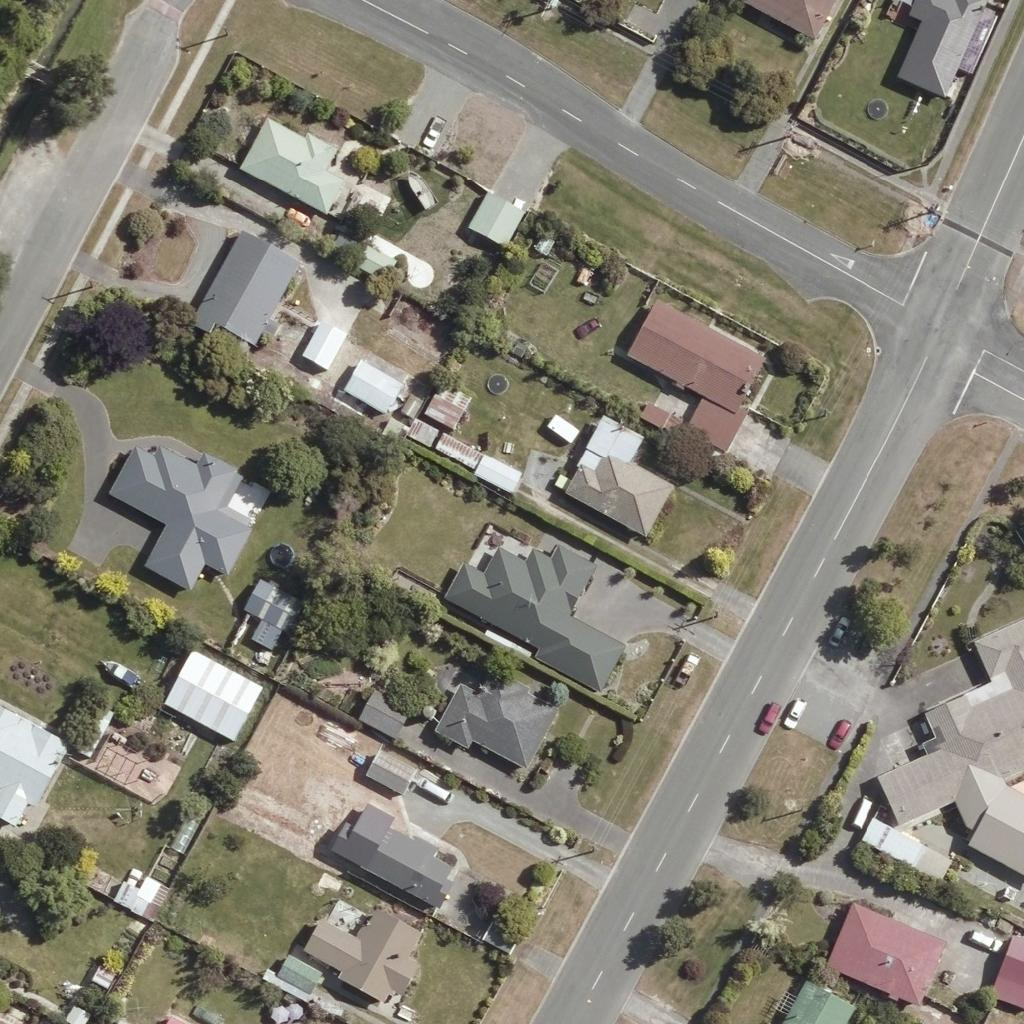car: (416, 115, 450, 149), (280, 197, 314, 231), (572, 308, 606, 342), (820, 613, 854, 647), (777, 695, 811, 729), (750, 700, 784, 734), (823, 715, 857, 749), (422, 776, 456, 810), (113, 863, 147, 897), (969, 923, 1003, 957)
